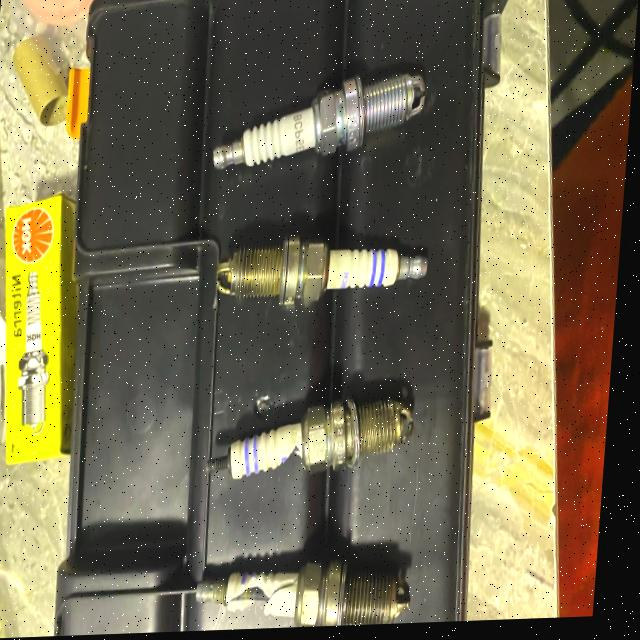damaged_spark-plug: (207, 395, 419, 498), (204, 552, 419, 629)
spark-plug: (211, 61, 432, 180), (220, 241, 434, 309)
